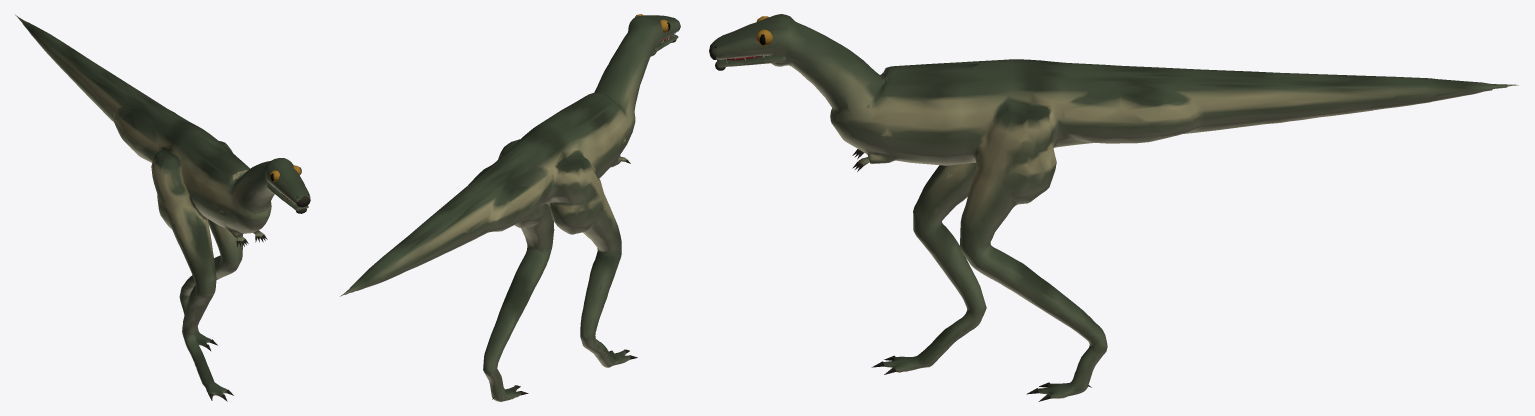
File: Dryosaurus.fbx
3 views of the same model, side by side, from view 1: azimuth 30°, elevation 25°; view 2: azimuth 150°, elevation 25°; view 3: azimuth 270°, elevation 25° (orthographic). The views are drawn at different scales.
Parts seen in each view (by area): view 1: Dryosaurus; view 2: Dryosaurus; view 3: Dryosaurus.
Part boxes in pixels (bbox=[...]): Dryosaurus: bbox=[15, 15, 310, 401]; Dryosaurus: bbox=[340, 14, 680, 401]; Dryosaurus: bbox=[709, 14, 1518, 401].
Bounding box in the file's own units: 0.4231 × 1.35 × 2.73.
